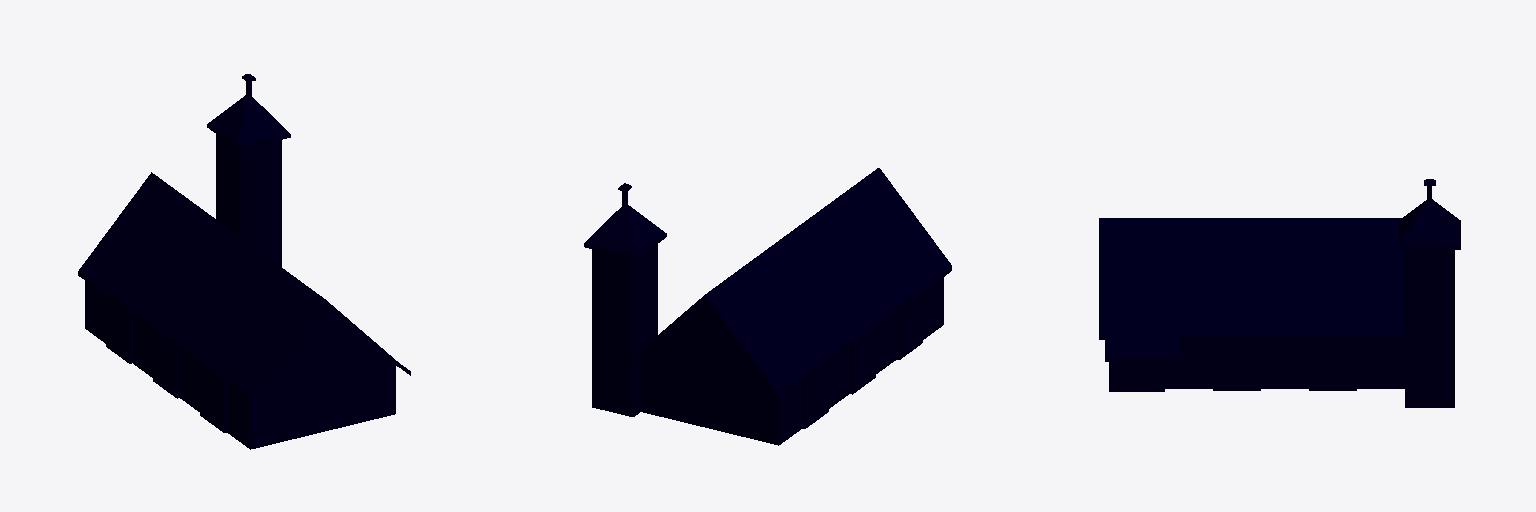
Rendered from iglesia2.obj.
3 renders of one model, left to right at view 1: azimuth 30°, elevation 25°; view 2: azimuth 150°, elevation 25°; view 3: azimuth 270°, elevation 25°, orthographic.
Parts seen in each view (by area): view 1: iglesia; view 2: iglesia; view 3: iglesia.
Boxes of the visible parts, x1=… form: iglesia: x1=78, y1=74, x2=410, y2=449; iglesia: x1=584, y1=168, x2=951, y2=445; iglesia: x1=1099, y1=179, x2=1460, y2=407.
Size of the model in its own units: 126 by 140 by 210.